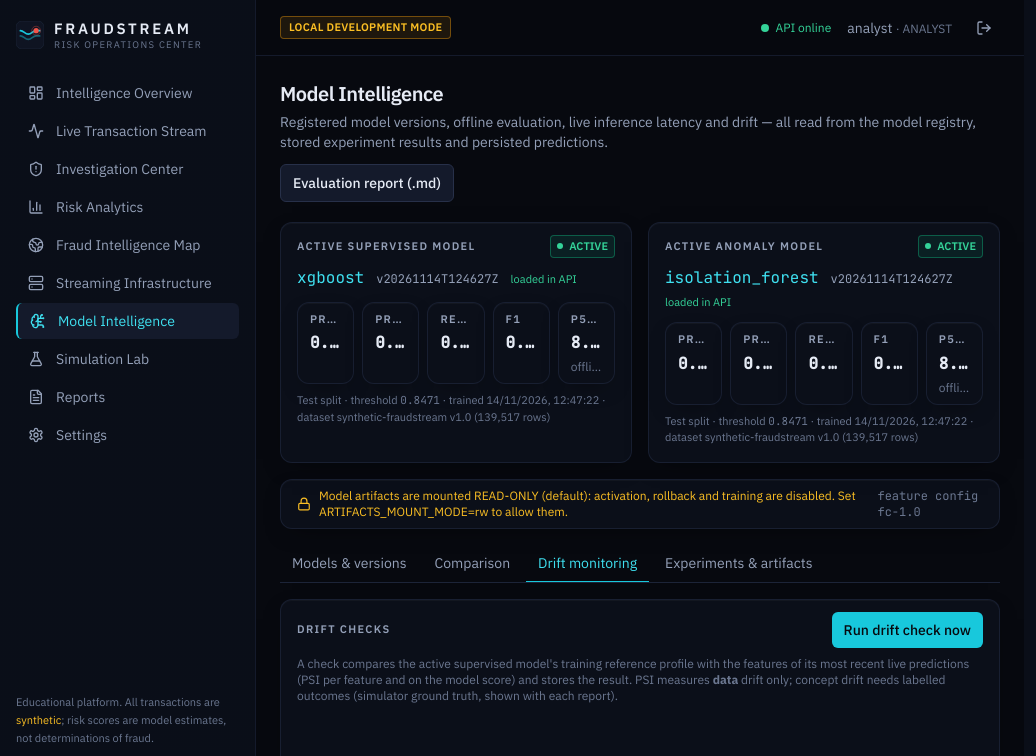
Test: Model Intelligence page › drift: insufficient data is reported and nothing is claimed
Click the button with test id "run-drift" at (907, 630), box [832,612,983,648]
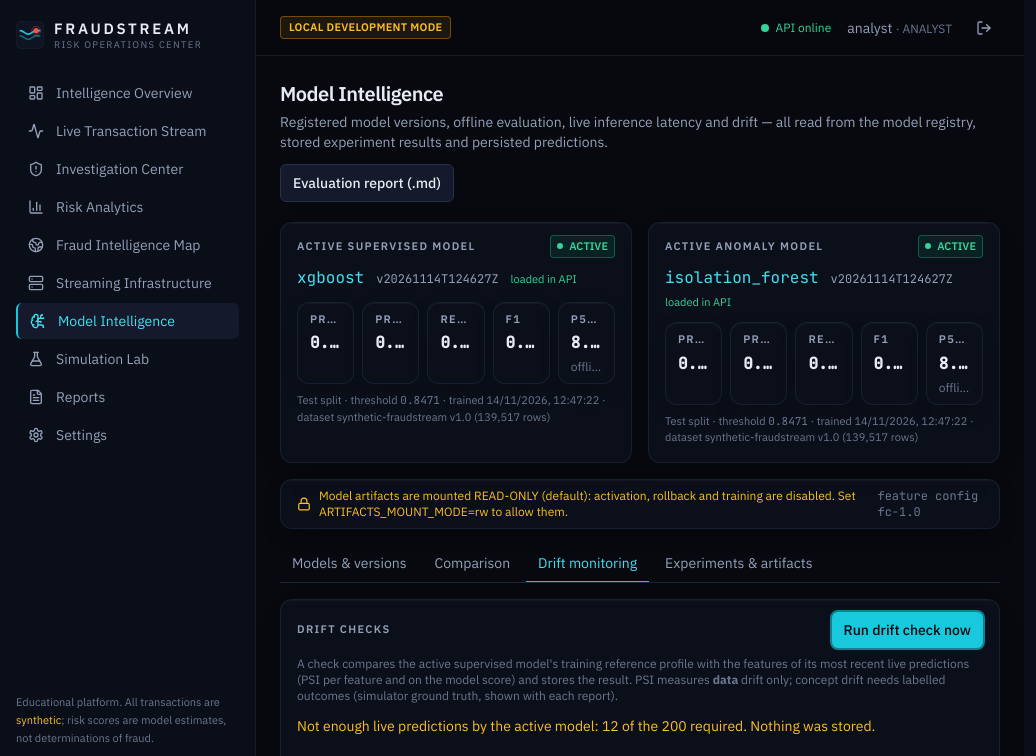
expect the message with test id "drift-insufficient" shows "12 of the 200 required": met, box [297,716,875,734]
